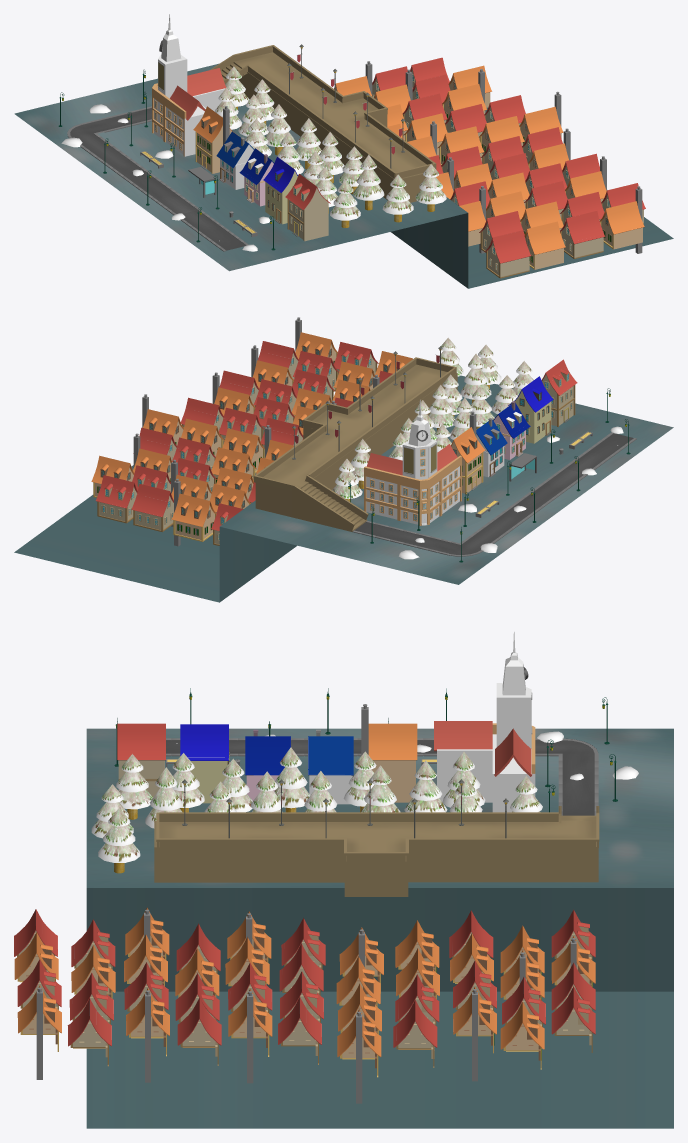
File: New_City.fbx
The picture shows the model from 3 angles, top to bottom: view 1: azimuth 30°, elevation 25°; view 2: azimuth 150°, elevation 25°; view 3: azimuth 270°, elevation 25°; orthographic projection. The views are drawn at different scales.
Visible parts, largest first — view 1: house01.013, city, house01.001, Armrest002, Stree_tree, Sidewalk, ShelteredArea; view 2: city, house01.013, house01.001, Armrest002, Stree_tree, Sidewalk, Armrest005, Glass_inght, ShelteredArea; view 3: city, house01.013, Armrest002, house01.001, Stree_tree, Sidewalk.
Boxes of the visible parts, <box> form: house01.013: <box>334,57,645,278</box>; city: <box>14,63,673,288</box>; house01.001: <box>152,14,330,241</box>; Armrest002: <box>221,45,436,202</box>; Stree_tree: <box>215,66,446,227</box>; Sidewalk: <box>67,106,248,251</box>; ShelteredArea: <box>188,167,216,197</box>; city: <box>14,375,673,602</box>; house01.013: <box>91,317,412,546</box>; house01.001: <box>364,359,577,525</box>; Armrest002: <box>253,357,457,531</box>; Stree_tree: <box>332,337,533,501</box>; Sidewalk: <box>352,432,636,556</box>; Armrest005: <box>292,485,354,530</box>; Glass_inght: <box>111,358,571,532</box>; ShelteredArea: <box>509,453,536,481</box>; city: <box>86,728,673,1128</box>; house01.013: <box>14,907,595,1103</box>; Armrest002: <box>154,806,599,896</box>; house01.001: <box>117,631,535,812</box>; Stree_tree: <box>91,747,542,873</box>; Sidewalk: <box>166,738,598,815</box>.
Size of the model in its own units: 5266 by 2203 by 4960.
Materials: 11 (11 with a texture image).
